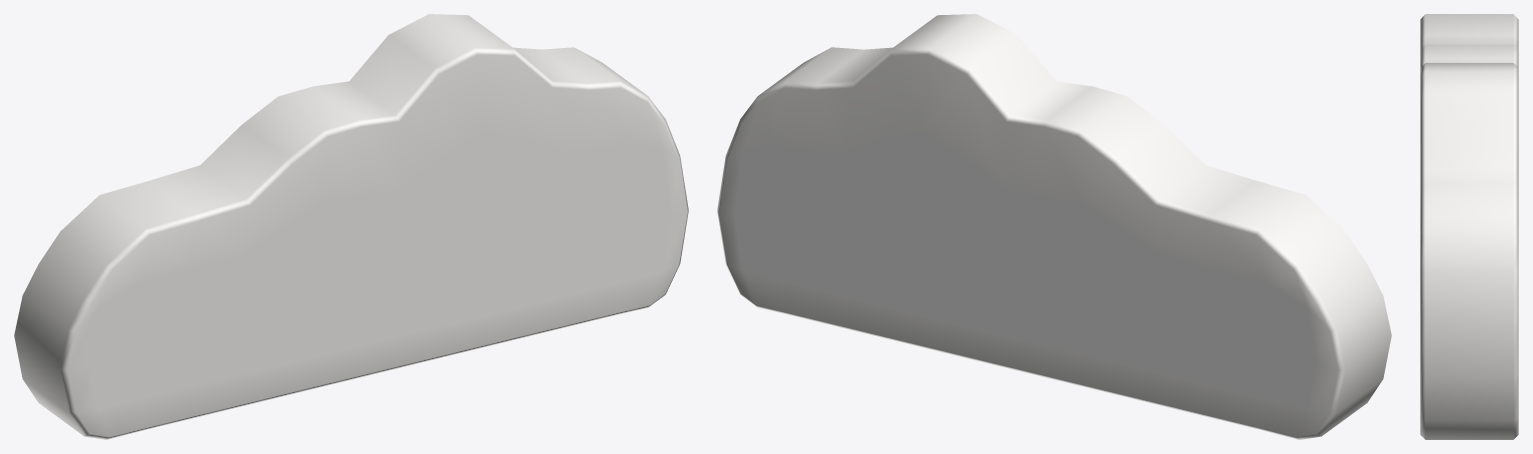
Rendered from Decoration_Cloud_3.glb.
3 views of the same model, side by side, from view 1: azimuth 30°, elevation 25°; view 2: azimuth 150°, elevation 25°; view 3: azimuth 270°, elevation 25° (orthographic). The views are drawn at different scales.
Visible parts, largest first — view 1: Decoration_Cloud_3; view 2: Decoration_Cloud_3; view 3: Decoration_Cloud_3.
Part boxes in pixels (box(x1,y1,x2,y2)): Decoration_Cloud_3: box(14, 14, 688, 439); Decoration_Cloud_3: box(717, 14, 1391, 439); Decoration_Cloud_3: box(1420, 14, 1518, 439).
Size of the model in its own units: 1.16 by 0.5354 by 0.1651.
Materials: 1 (1 with a texture image).
